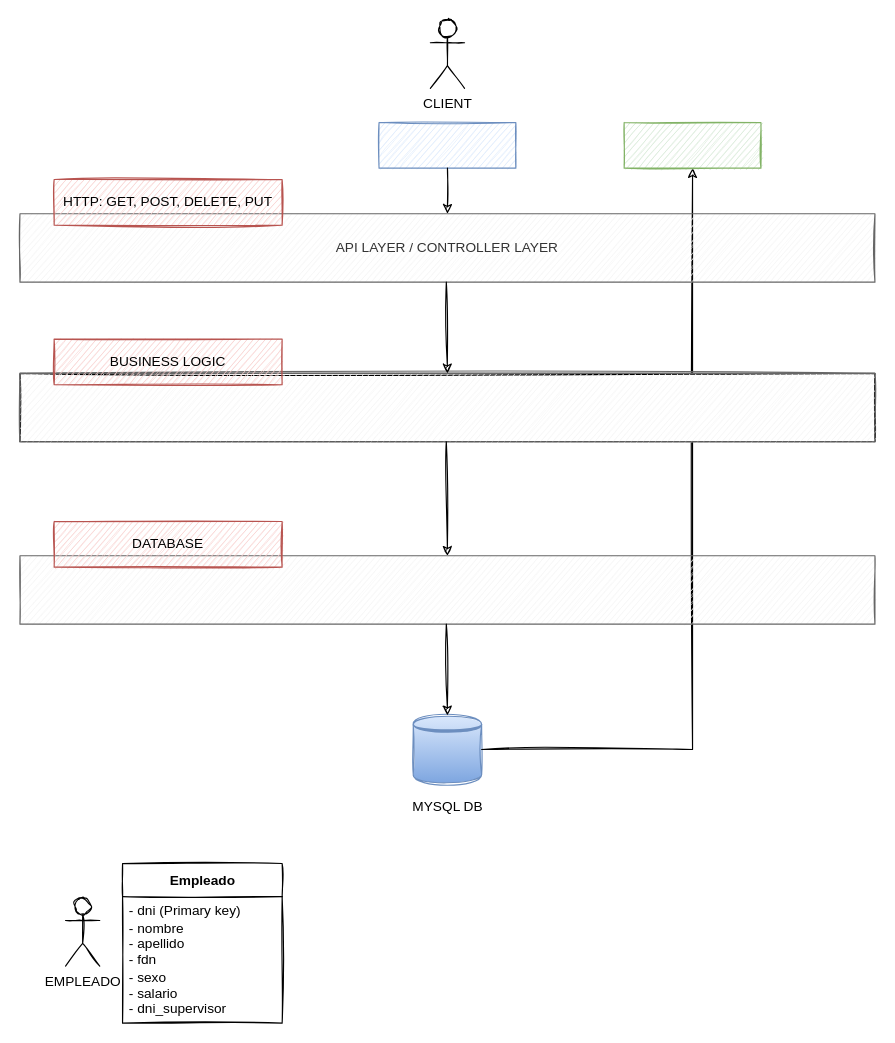
This 895x1043 diagram has some shape labels left out. The box of each missing label's shape, as (x1, y1, x2, y2) in pixels:
DATA ACCESS LAYER: (19, 555, 875, 624)
REQUEST: (378, 121, 516, 168)
RESPONSE: (623, 121, 761, 168)
SERVICE LAYER: (19, 372, 875, 442)
